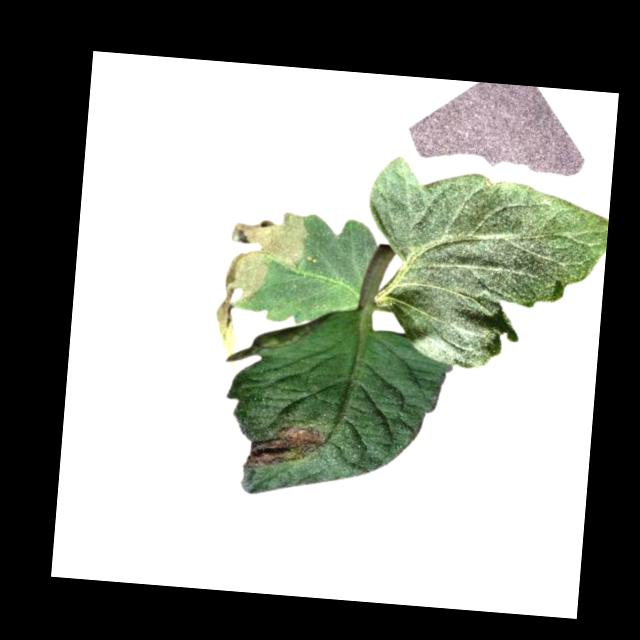Late_blight: (212, 207, 306, 355), (243, 420, 332, 475)
healthy: (359, 153, 611, 379)
